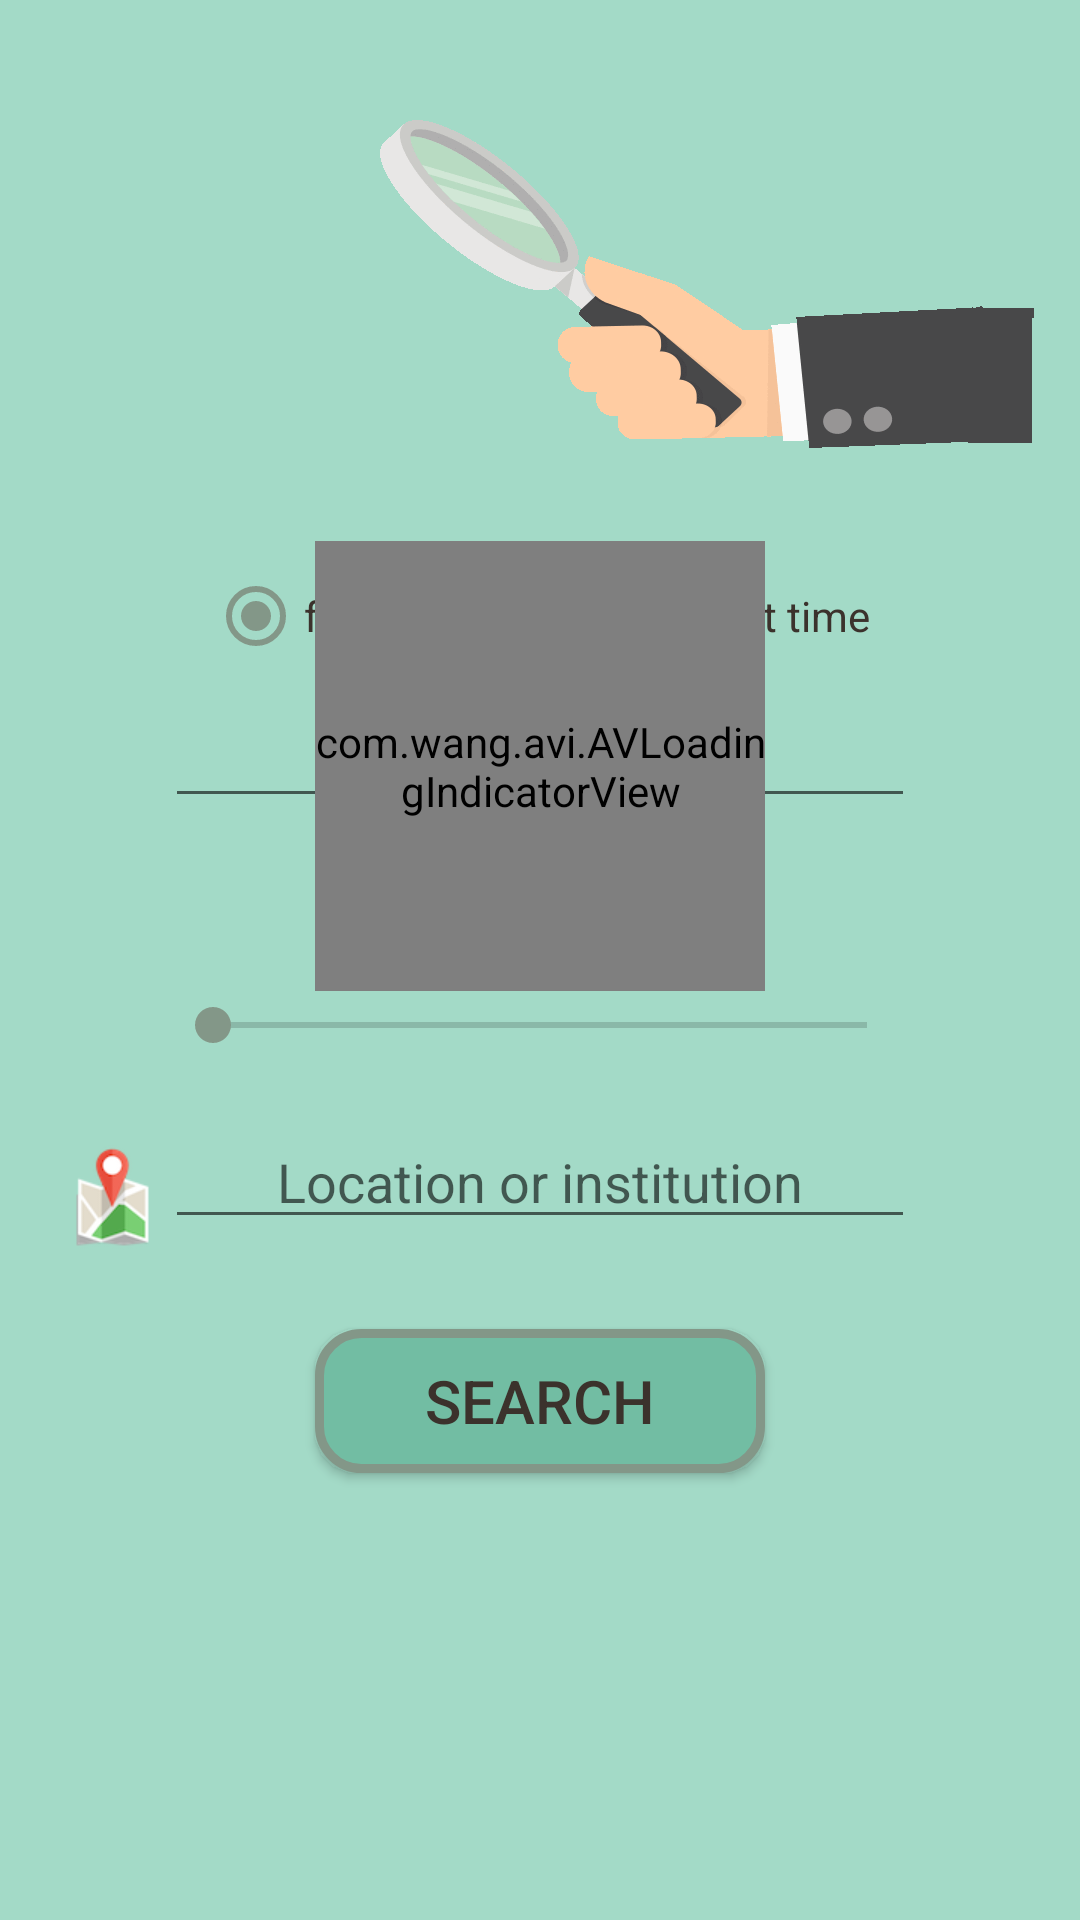

Icons on this 1080*1920 Android screen, each with its box as (x1, y1, x2, y2):
map: (77, 1149, 149, 1245)
